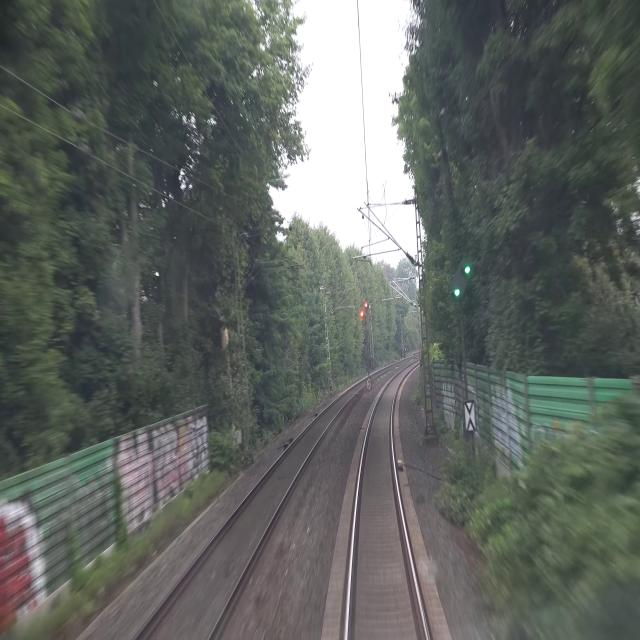rail-track: (139, 391, 353, 639), (348, 372, 424, 639)
